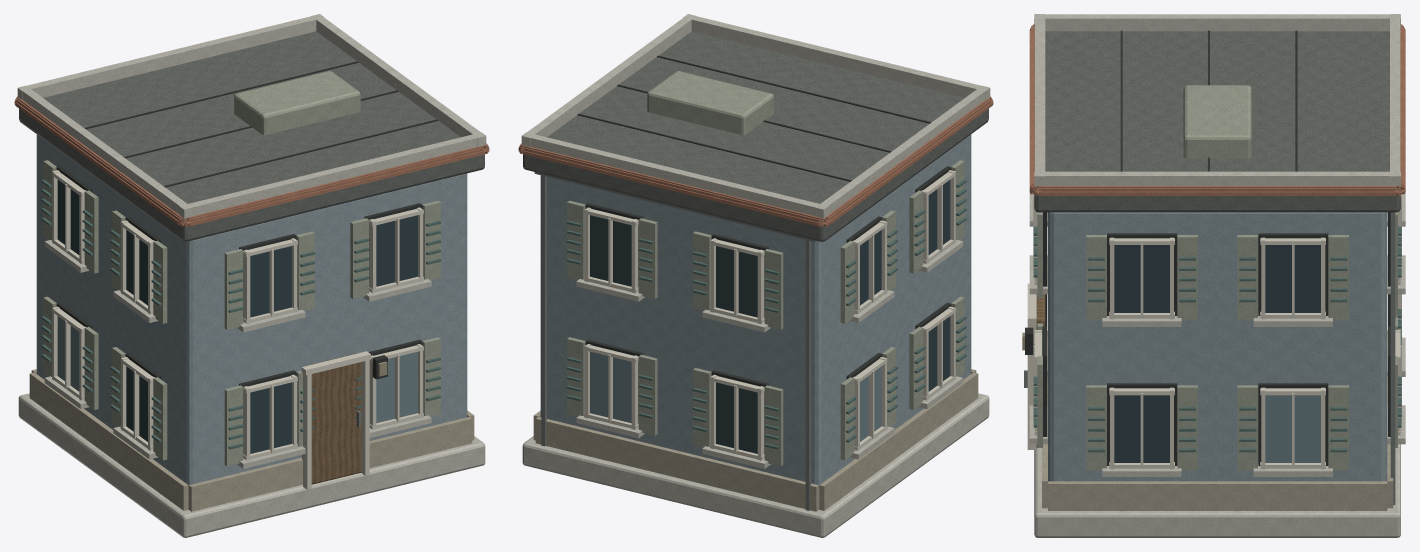
File: RES_LOW_1x1_004.glb
The picture shows the model from 3 angles, left to right: view 1: azimuth 30°, elevation 25°; view 2: azimuth 150°, elevation 25°; view 3: azimuth 270°, elevation 25°; orthographic projection. The views are drawn at different scales.
Parts seen in each view (by area): view 1: RES_LOW_1x1_004_Visual; view 2: RES_LOW_1x1_004_Visual; view 3: RES_LOW_1x1_004_Visual.
Boxes of the visible parts, x1=… form: RES_LOW_1x1_004_Visual: x1=14, y1=14, x2=489, y2=537; RES_LOW_1x1_004_Visual: x1=518, y1=14, x2=993, y2=537; RES_LOW_1x1_004_Visual: x1=1022, y1=14, x2=1405, y2=537.
Size of what is drawn, in the model's own units: 1.71 by 1.79 by 1.67.
Materials: 14 (8 with a texture image).
